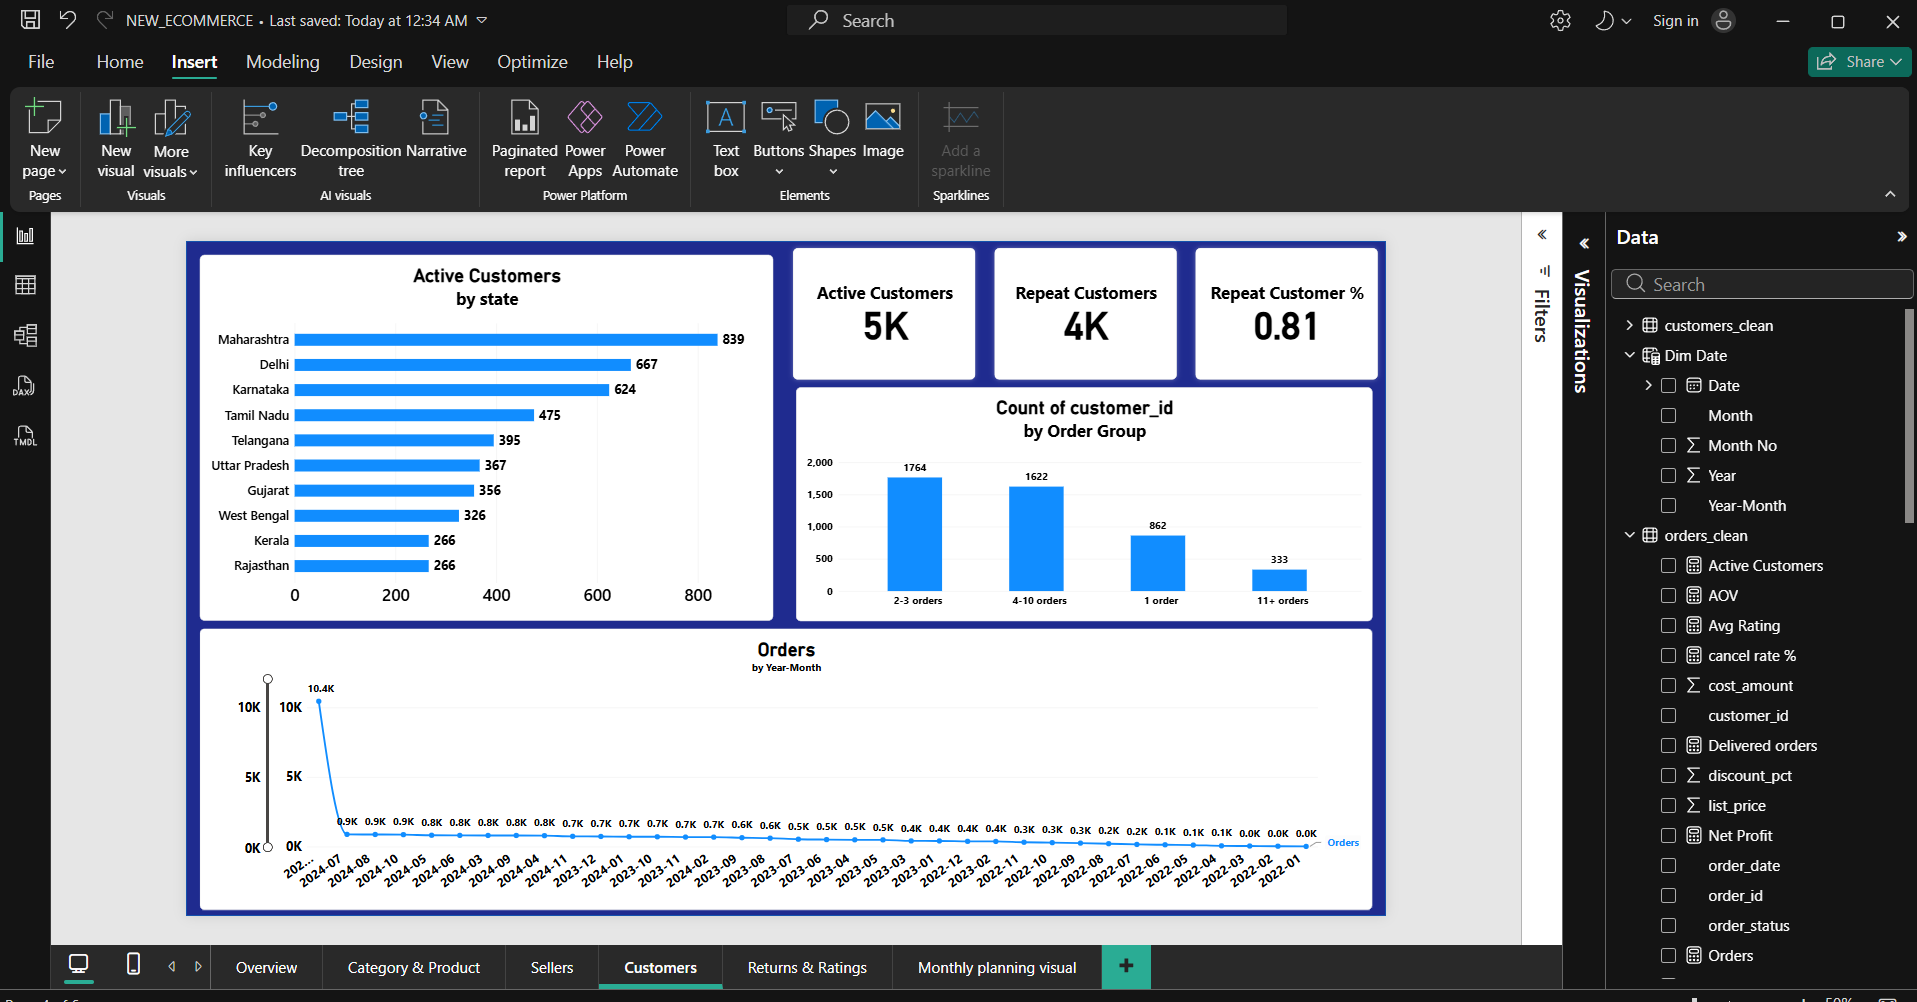

Layout of this report page (visuals, bound fields, positions):
{"tool":"powerbi","page":{"name":"Customers","canvas":[1920,1080],"ordinal":3},"visuals":[{"type":"shape","box":[0,0,1920,1080],"z":0},{"type":"cardVisual","fields":{"Data":["orders_clean.Active Customers","orders_clean.Repeat Customers","orders_clean.Repeat Customer %"]},"box":[960.2,0,960.2,233.9],"z":1000},{"type":"columnChart","fields":{"Category":["customers_clean.Order Group"],"Y":["CountNonNull(customers_clean.customer_id)"]},"box":[975.8,233.9,922.4,374.3],"z":2000},{"type":"barChart","fields":{"Category":["customers_clean.state"],"Y":["orders_clean.Active Customers"]},"box":[22.3,22.3,917.9,585.9],"z":3000},{"type":"lineChart","fields":{"Category":["Dim Date.Year-Month"],"Y":["orders_clean.Orders"]},"box":[22.3,619.4,1875.9,450],"z":4000}]}

Visuals, with their boxes on the page's 1920x1080 design canvas (x1, y1, x2, y2). These are canvas units, not pixel positions in the 1917x1002 screenshot, which may show the page scaled, cropped or inside an application window:
shape: <region>0, 0, 1920, 1080</region>
cardVisual - orders_clean.Active Customers x orders_clean.Repeat Customers: <region>960, 0, 1920, 234</region>
columnChart - customers_clean.Order Group x CountNonNull(customers_clean.customer_id): <region>976, 234, 1898, 608</region>
barChart - customers_clean.state x orders_clean.Active Customers: <region>22, 22, 940, 608</region>
lineChart - Dim Date.Year-Month x orders_clean.Orders: <region>22, 619, 1898, 1069</region>
